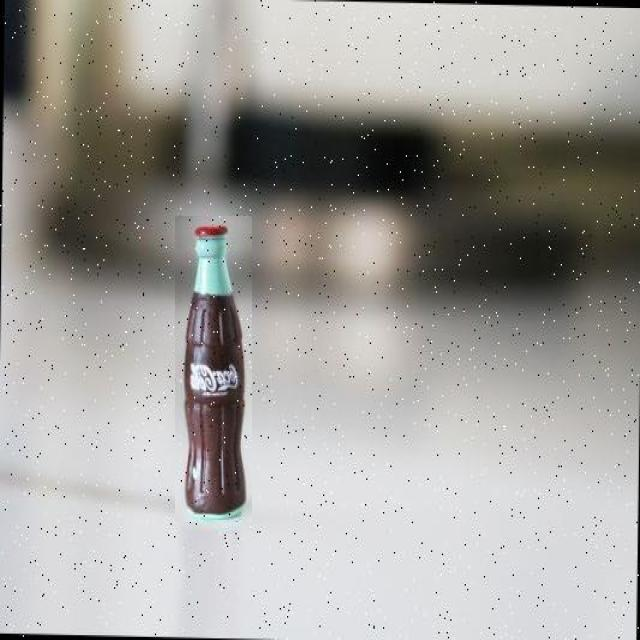coca-cola: (175, 216, 252, 522)
